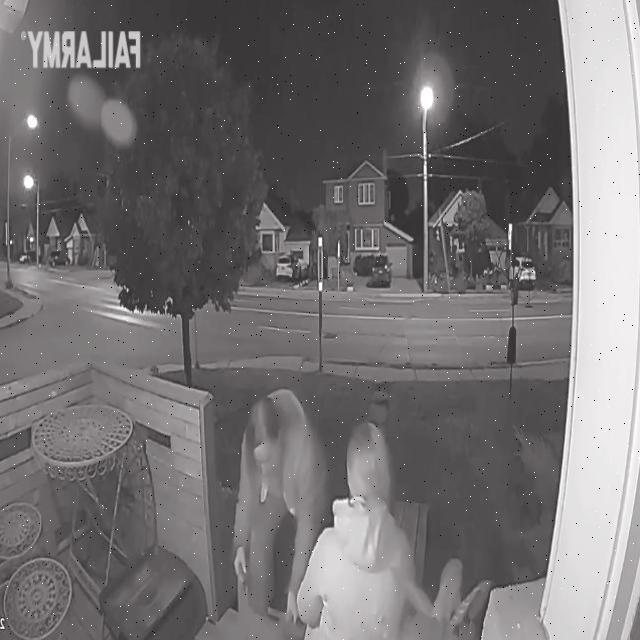person: (298, 419, 439, 640), (234, 390, 328, 604)
